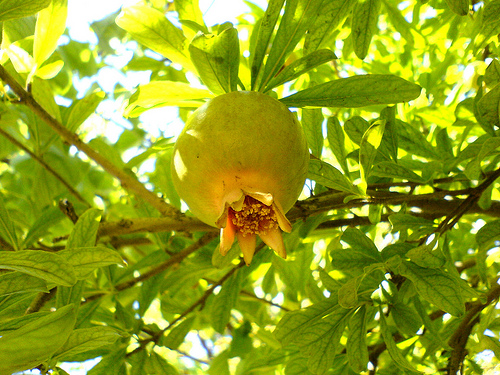pomogranate: (168, 89, 314, 264)
